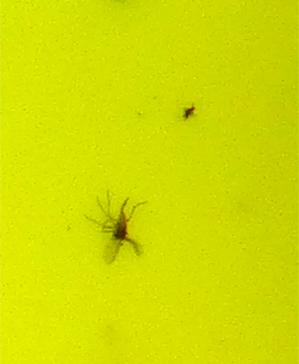Brachycera: (179, 100, 199, 124)
Nematocera: (100, 199, 144, 264)
